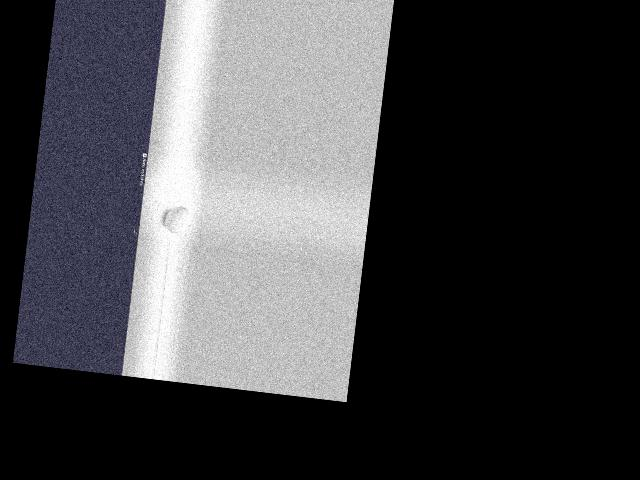egg: (163, 205, 191, 235)
